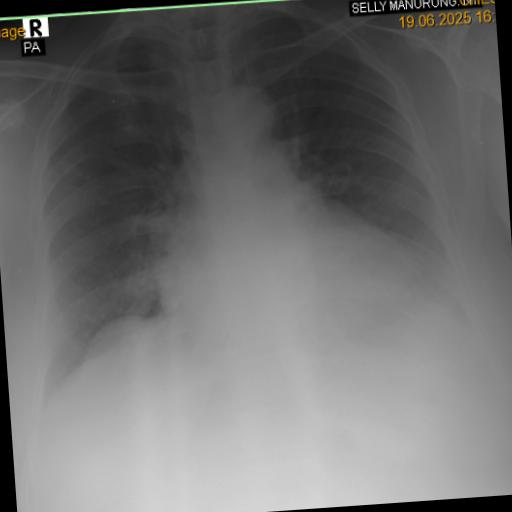kardiomegali: (128, 170, 456, 384)
